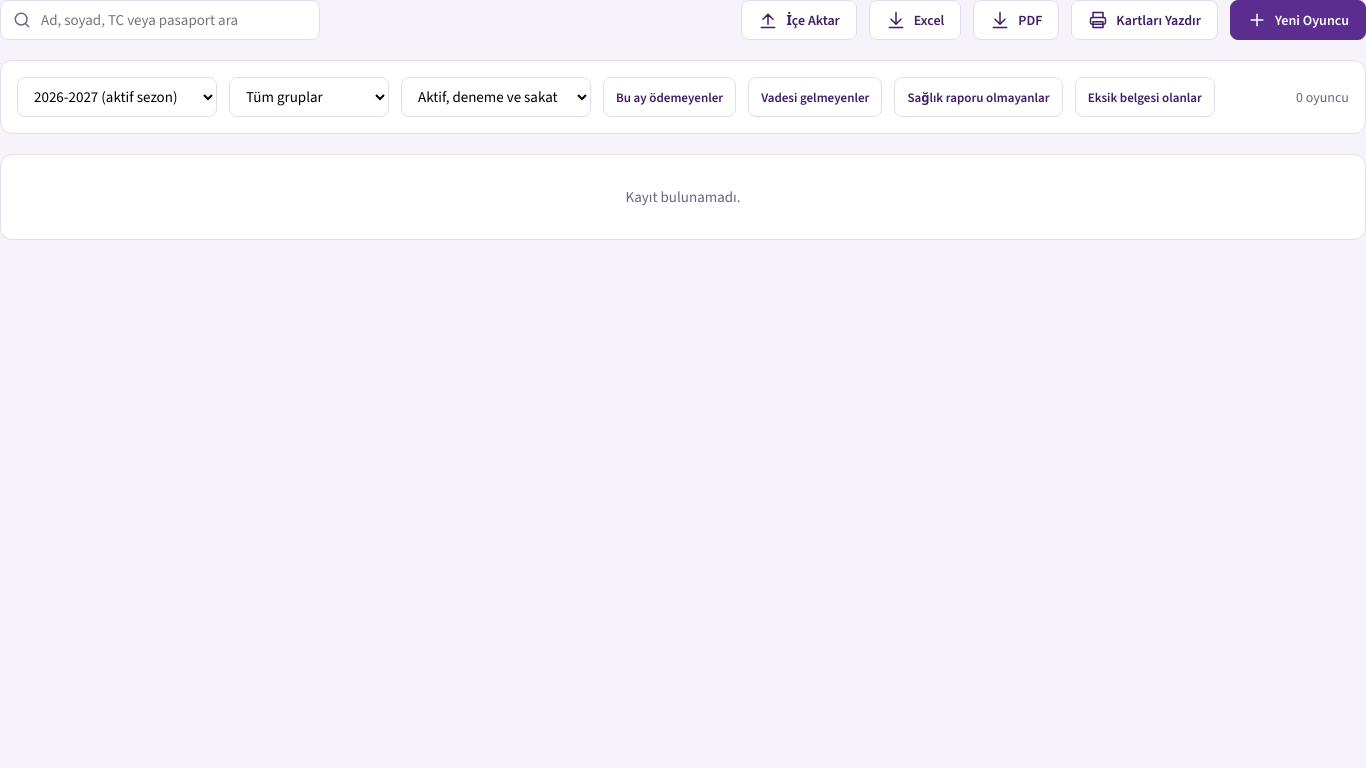
Giriş Kartları penceresi › yazıcı yok: PDF yedek yolu açılırsa üretildi sayılır (kayıt düşer); PDF de açılamazsa kayıt yok, seçim kalır
Click the button "Kartları Yazdır" at (1145, 20), box [1071, 0, 1218, 40]
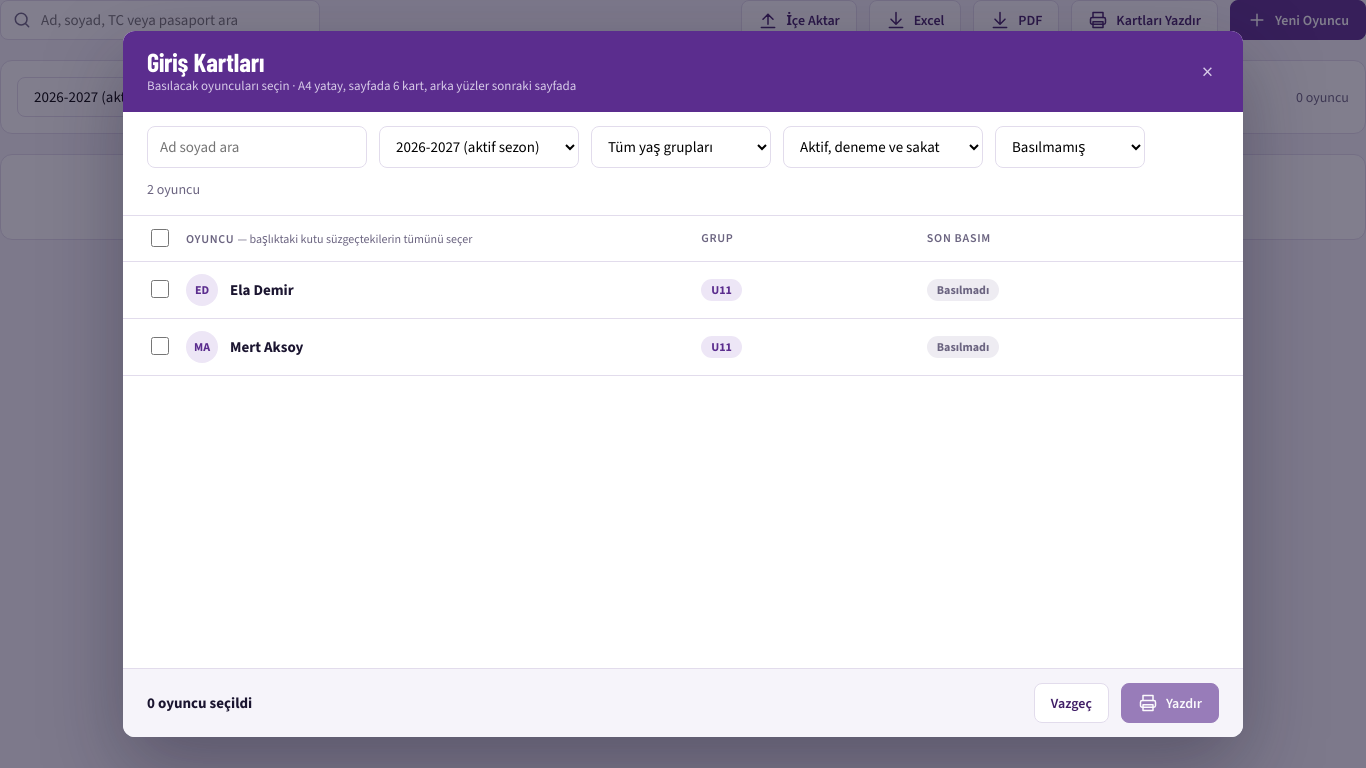
Expected: the text "Giriş Kartları" is shown, [147, 46, 264, 77]
Expected: the text "Ela Demir" is shown, [230, 280, 294, 300]
Click the checkbox named "Seç: Ela Demir" at (160, 289), box [151, 280, 169, 298]
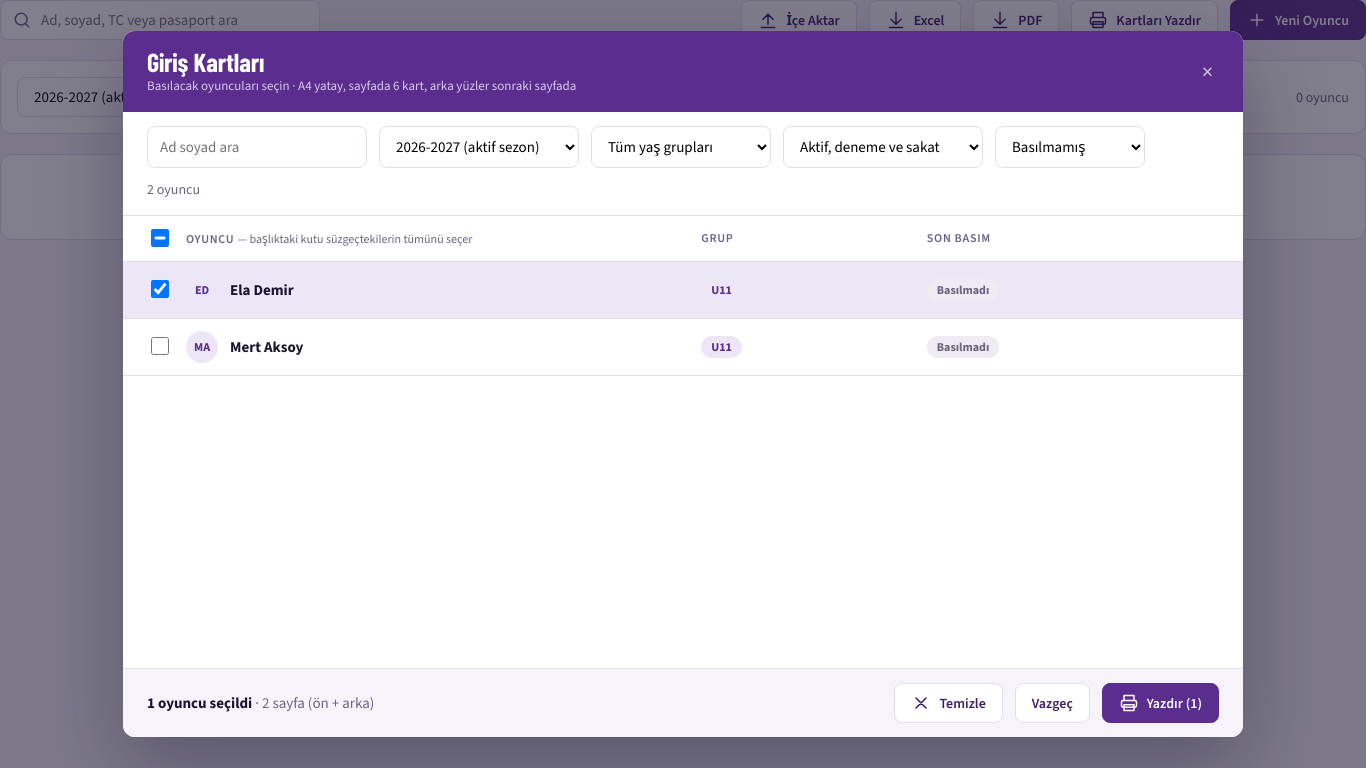
Click the button "Yazdır (1)" at (1160, 703), box [1102, 683, 1219, 723]
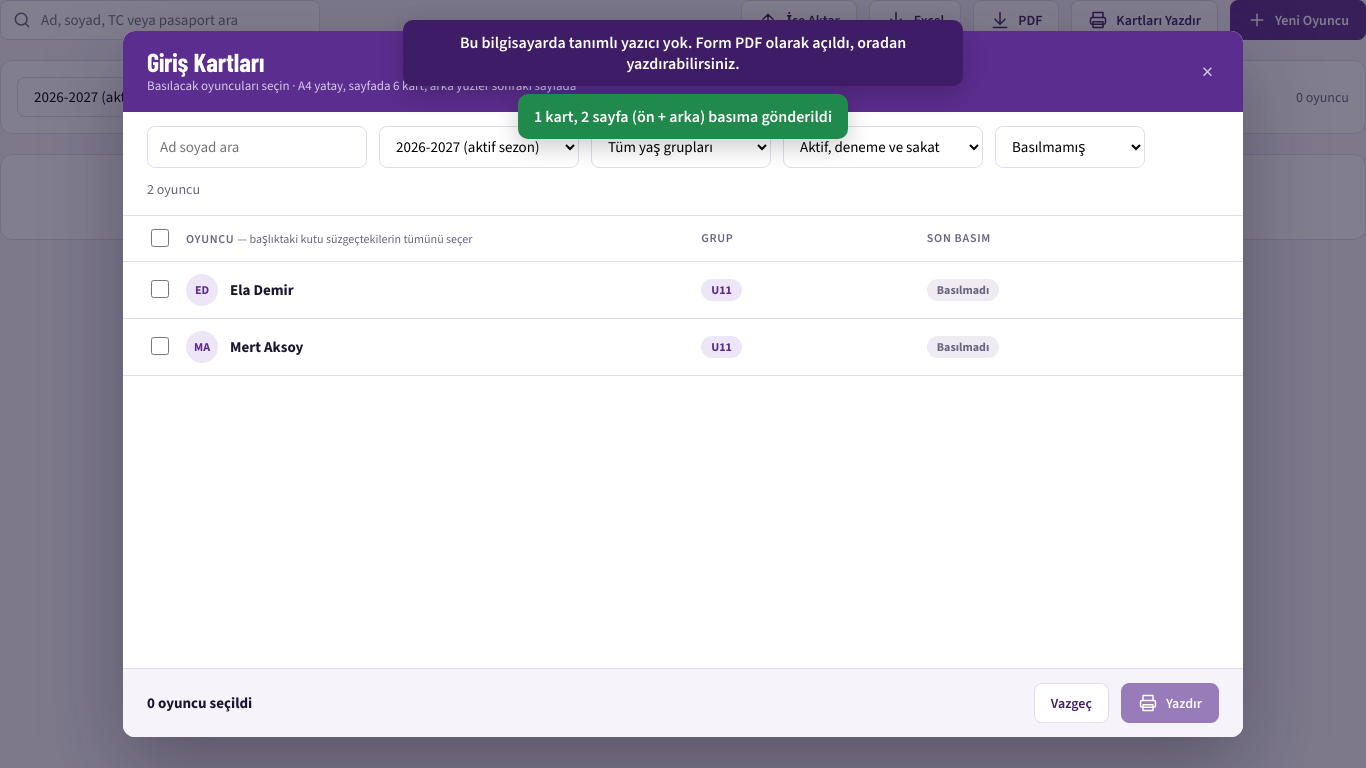
Expected: the text "PDF olarak açıldı" is shown, [460, 32, 906, 74]
Click the checkbox named "Seç: Mert Aksoy" at (160, 346), box [151, 337, 169, 355]
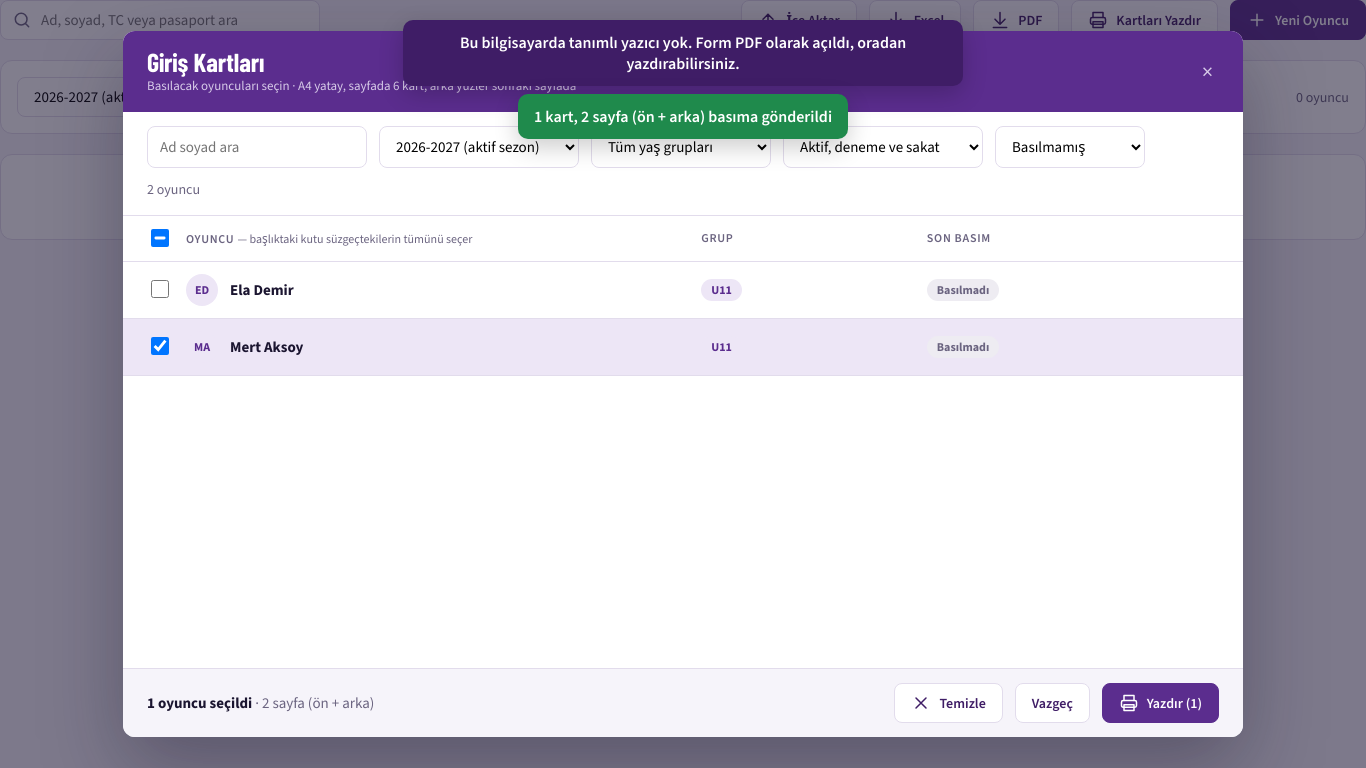
Click the button "Yazdır (1)" at (1160, 703), box [1102, 683, 1219, 723]
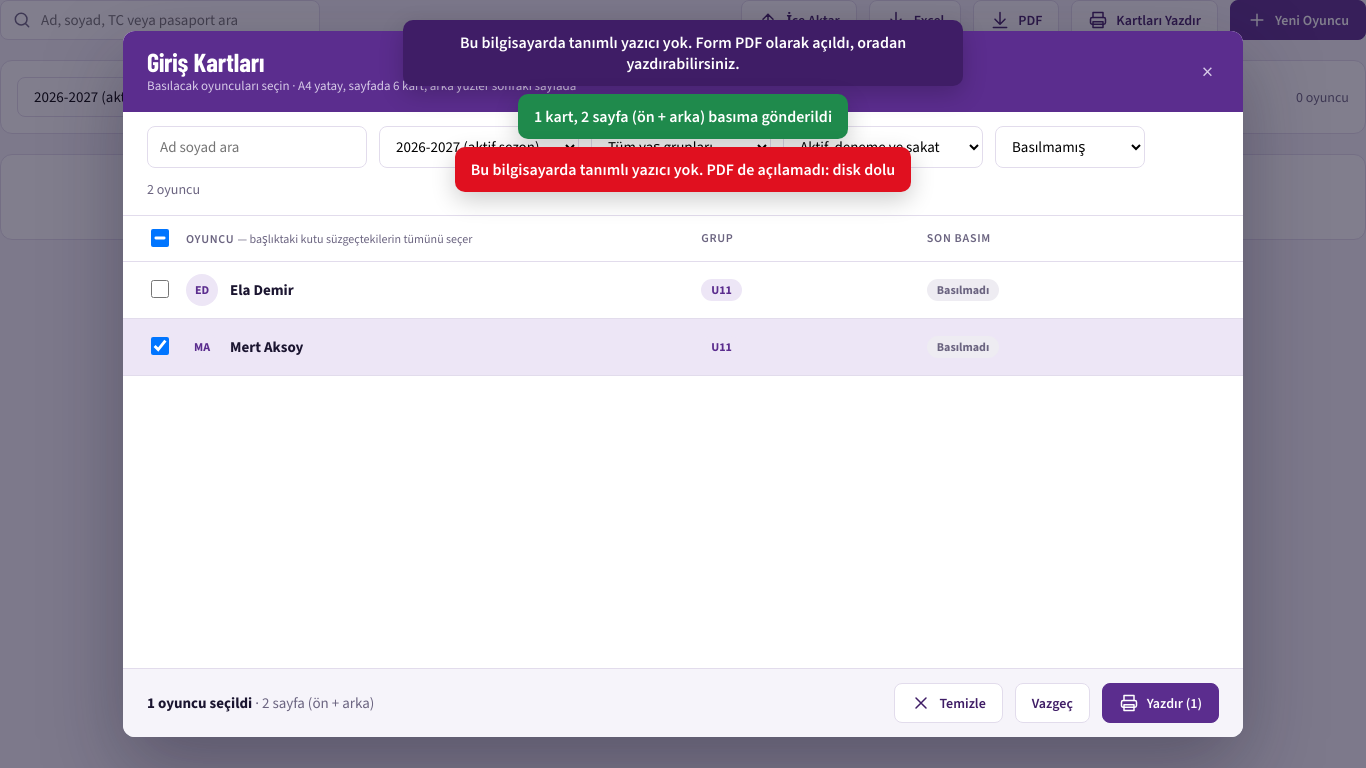
Expected: the text "1 oyuncu seçildi" is shown, [147, 693, 252, 713]
Expected: the text "Bu bilgisayarda tanımlı yazıcı yok. PDF de açılamadı: disk dolu" is shown, [455, 147, 911, 192]
